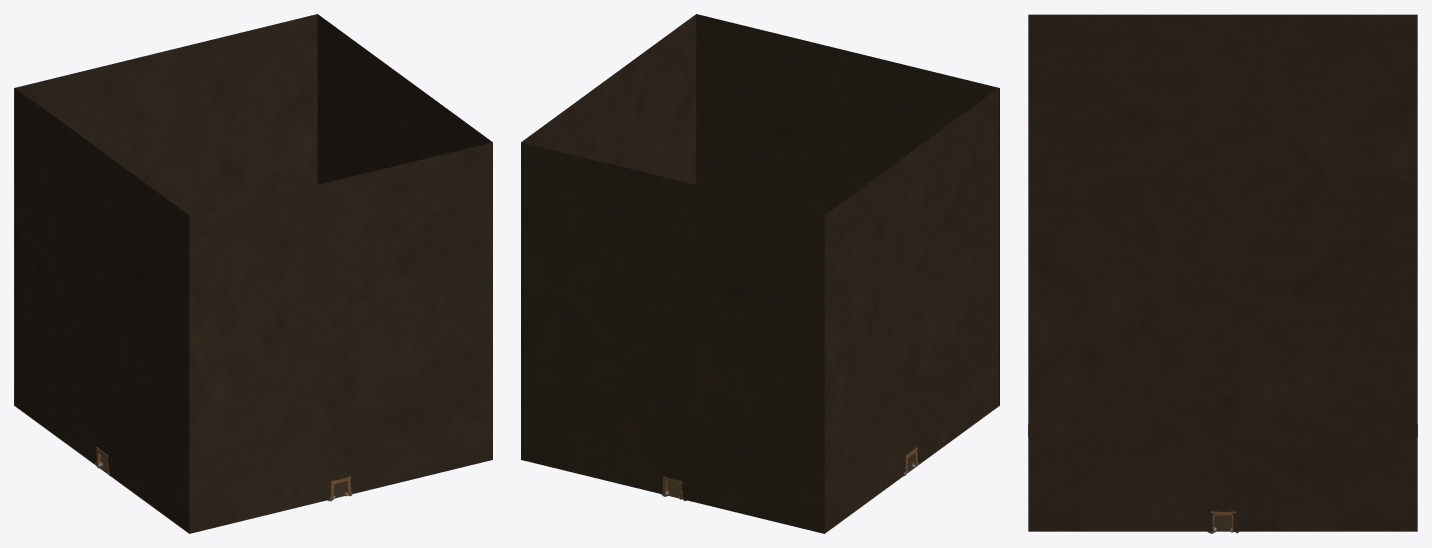
File: 4sides.fbx
3 views of the same model, side by side, from view 1: azimuth 30°, elevation 25°; view 2: azimuth 150°, elevation 25°; view 3: azimuth 270°, elevation 25° (orthographic). The views are drawn at different scales.
Parts seen in each view (by area): view 1: 4Pared, 3Pared, 2Pared, 1Pared, 4Pared.001, 4Pared.002, 3Pared.002, 3Pared.001; view 2: 2Pared, 3Pared, 4Pared, 1Pared, 2Pared.001, 2Pared.002, 3Pared.001, 3Pared.002; view 3: 1Pared, 3Pared, 1Pared.001, 1Pared.002.
Part boxes in pixels (left/top/right/bottom): 4Pared: left=189, top=142, right=492, bottom=517; 3Pared: left=15, top=88, right=189, bottom=516; 2Pared: left=14, top=14, right=317, bottom=389; 1Pared: left=317, top=14, right=492, bottom=184; 4Pared.001: left=189, top=483, right=331, bottom=533; 4Pared.002: left=350, top=444, right=492, bottom=494; 3Pared.002: left=108, top=458, right=189, bottom=532; 3Pared.001: left=15, top=390, right=96, bottom=463; 2Pared: left=521, top=142, right=824, bottom=517; 3Pared: left=824, top=88, right=998, bottom=516; 4Pared: left=696, top=14, right=999, bottom=389; 1Pared: left=521, top=14, right=696, bottom=184; 2Pared.001: left=681, top=483, right=824, bottom=533; 2Pared.002: left=521, top=444, right=664, bottom=494; 3Pared.001: left=824, top=458, right=905, bottom=532; 3Pared.002: left=917, top=390, right=998, bottom=463; 1Pared: left=1028, top=178, right=1417, bottom=513; 3Pared: left=1028, top=14, right=1417, bottom=178; 1Pared.001: left=1233, top=514, right=1417, bottom=531; 1Pared.002: left=1028, top=514, right=1212, bottom=531.
Bounding box in the file's own units: 9600 × 9693 × 9608.
